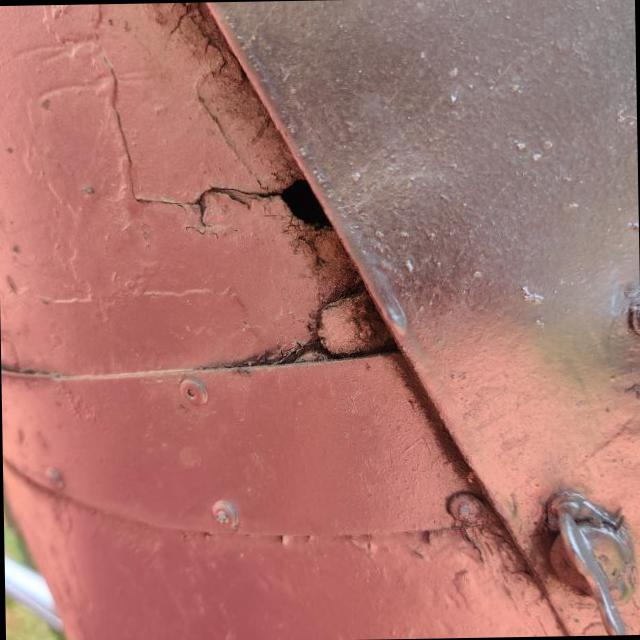Crack: (194, 179, 336, 244)
